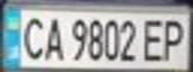0: (103, 16, 121, 63)
2: (118, 16, 142, 63)
8: (84, 16, 106, 63)
9: (66, 15, 87, 62)
A: (39, 14, 69, 62)
C: (15, 12, 48, 62)
E: (139, 16, 169, 63)
P: (157, 15, 190, 62)
